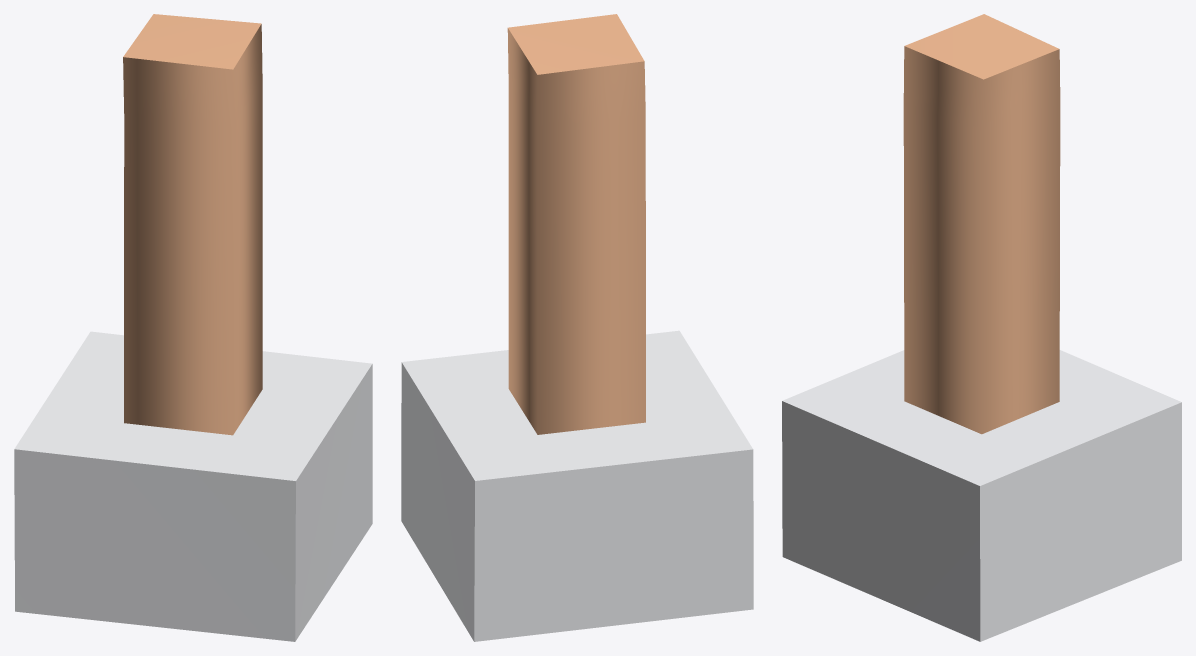
File: ForearmNew.obj
The picture shows the model from 3 angles, left to right: view 1: azimuth 30°, elevation 25°; view 2: azimuth 150°, elevation 25°; view 3: azimuth 270°, elevation 25°; orthographic projection. The views are drawn at different scales.
Bounding box in the file's own units: 0.9066 × 1.28 × 0.9058.
2 materials, 2 textured.
